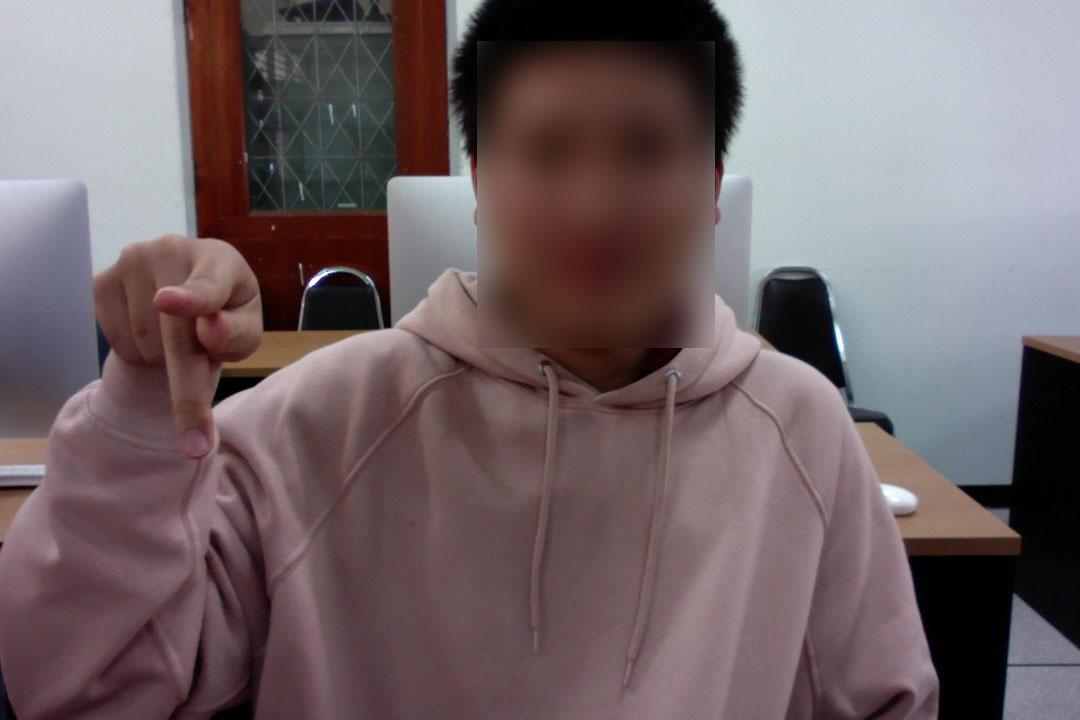por: (87, 220, 270, 465)
